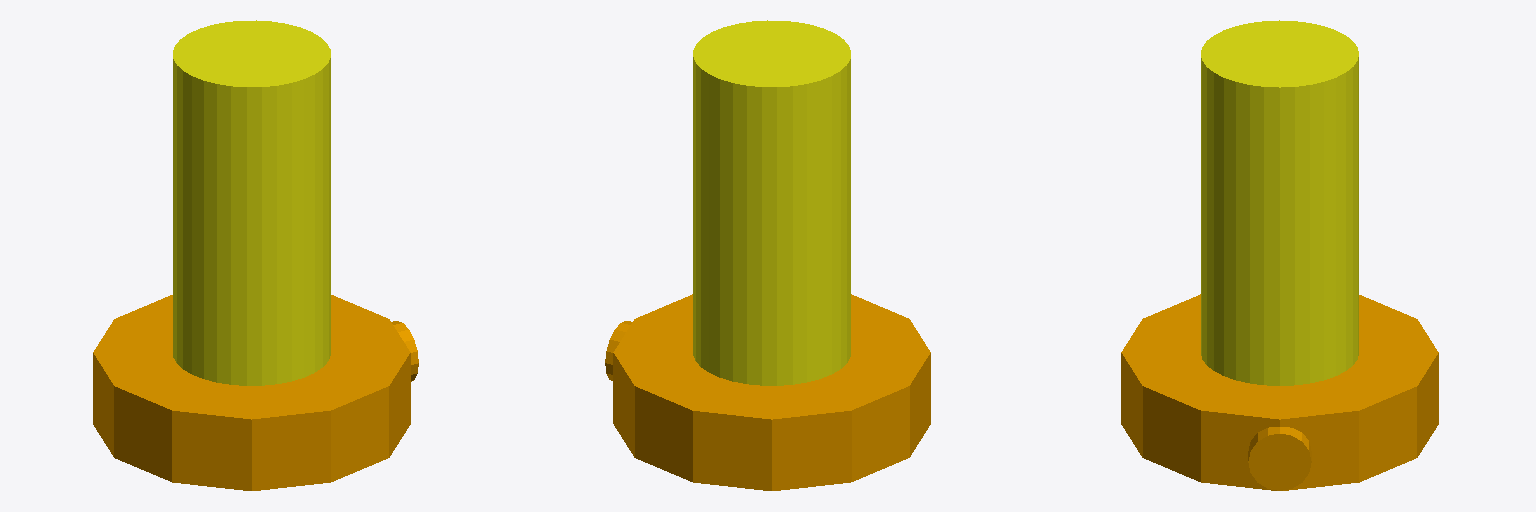
The robot description file, URDF, robot "rob":
<?xml version="0.0" ?>
<robot name="rob">
  <link name="baseLink">
    <contact>
      <lateral_friction value="1.0"/>
      <rolling_friction value="0.0"/>
      <contact_cfm value="0.0"/>
      <contact_erp value="1.0"/>
    </contact>
    <inertial>
      <origin rpy="1.57 0 0" xyz="0.0 0.0 0.0"/>
       <mass value=".1"/>
       <inertia ixx="1" ixy="0" ixz="0" iyy="1" iyz="0" izz="1"/>
    </inertial>
    <visual>
      <origin rpy="1.57 0 0" xyz="0 0 0.0"/>
      <geometry>
        <mesh filename="meshes/moving_rob/platform.obj" />
      </geometry>

    </visual>
    <collision>
      <origin rpy="1.57 0 0" xyz="0 0 0.0"/>
      <geometry>
	 	<mesh filename="meshes/moving_rob/platform.obj" />
      </geometry>
    </collision>
  </link>

    <joint name="body2base" type="fixed">
    <origin rpy="0 0 0" xyz=" 0 0 0.1"/>
    <parent link="baseLink"/>
    <child link="body"/>
  </joint>
    <link name="body">

    <inertial>
      <origin rpy="0 0 0" xyz="0.0 0.0 0.0"/>
       <mass value=".1"/>
       <inertia ixx="1" ixy="0" ixz="0" iyy="1" iyz="0" izz="1"/>
    </inertial>
    <visual>
      <origin rpy="0 0 0" xyz="0 0 0.5"/>
      <geometry>
       <cylinder radius="0.2" length="1"/>
      </geometry>
      <material name="body">
        <color rgba="0.9 0.9 0.1 1"/>
      </material>
    </visual>
    <collision>
      <origin rpy="1.57 0 0" xyz="0 0 0.5"/>
      <geometry>
       <cylinder radius="0.2" length="1"/>
      </geometry>
    </collision>
  </link>
</robot>

--- Facts derived from the render (not from the file) ---
Views: 3 orthographic renders of the robot side by side, from view 1: azimuth 30°, elevation 25°; view 2: azimuth 150°, elevation 25°; view 3: azimuth 270°, elevation 25°.
Robot: rob — 2 links, 1 joints (1 fixed); root link baseLink; default pose: every joint at zero.
Links seen in each view (by area): view 1: body, baseLink; view 2: body, baseLink; view 3: body, baseLink.
Boxes of the visible links, x1,y1,x2,y2 form: body: [173, 20, 330, 385]; baseLink: [93, 295, 418, 490]; body: [693, 20, 850, 385]; baseLink: [605, 294, 930, 490]; body: [1201, 20, 1358, 385]; baseLink: [1121, 294, 1438, 490].
Size in the robot's own frame: 0.84 by 0.8002 by 1.09 metres.
Meshes: 1 distinct files referenced, 1 mesh visuals loaded (1 OBJ).